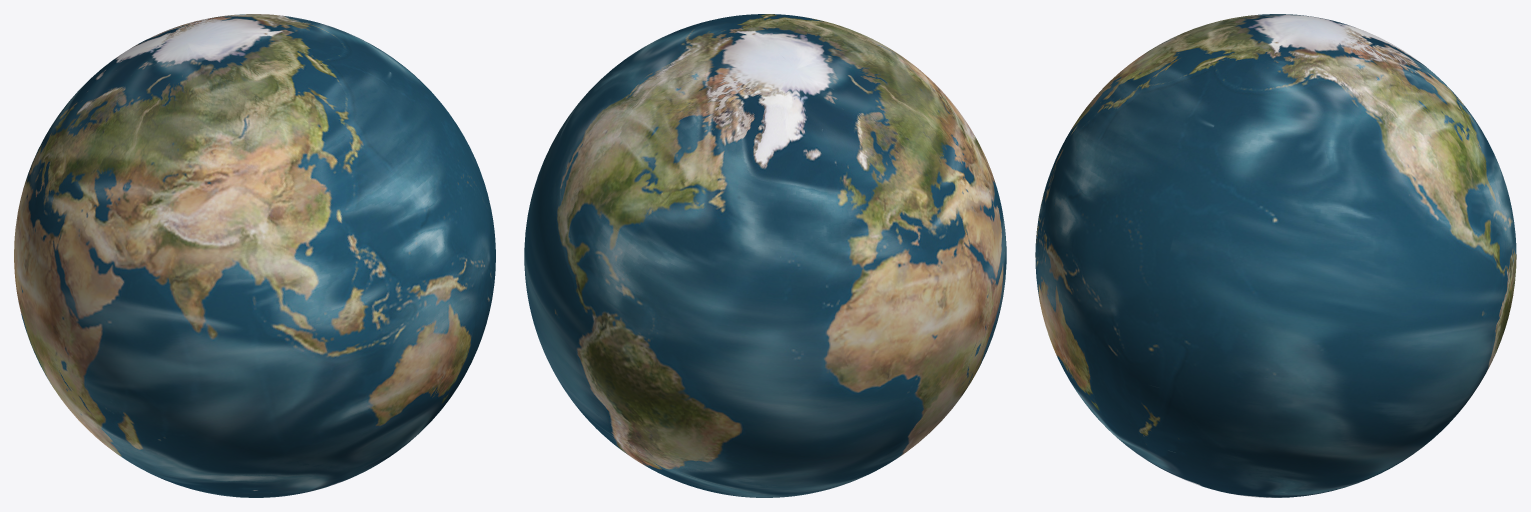
Rendered from earth.fbx.
3 renders of one model, left to right at view 1: azimuth 30°, elevation 25°; view 2: azimuth 150°, elevation 25°; view 3: azimuth 270°, elevation 25°, orthographic.
Visible parts, largest first — view 1: 13902_Earth_v1_l3; view 2: 13902_Earth_v1_l3; view 3: 13902_Earth_v1_l3.
Boxes of the visible parts, box(x1,y1,x2,y2) form: 13902_Earth_v1_l3: box(14, 14, 495, 497); 13902_Earth_v1_l3: box(524, 14, 1006, 497); 13902_Earth_v1_l3: box(1035, 14, 1516, 497).
Size of the model in its own units: 270 by 271 by 270.
Materials: 1 (1 with a texture image).
